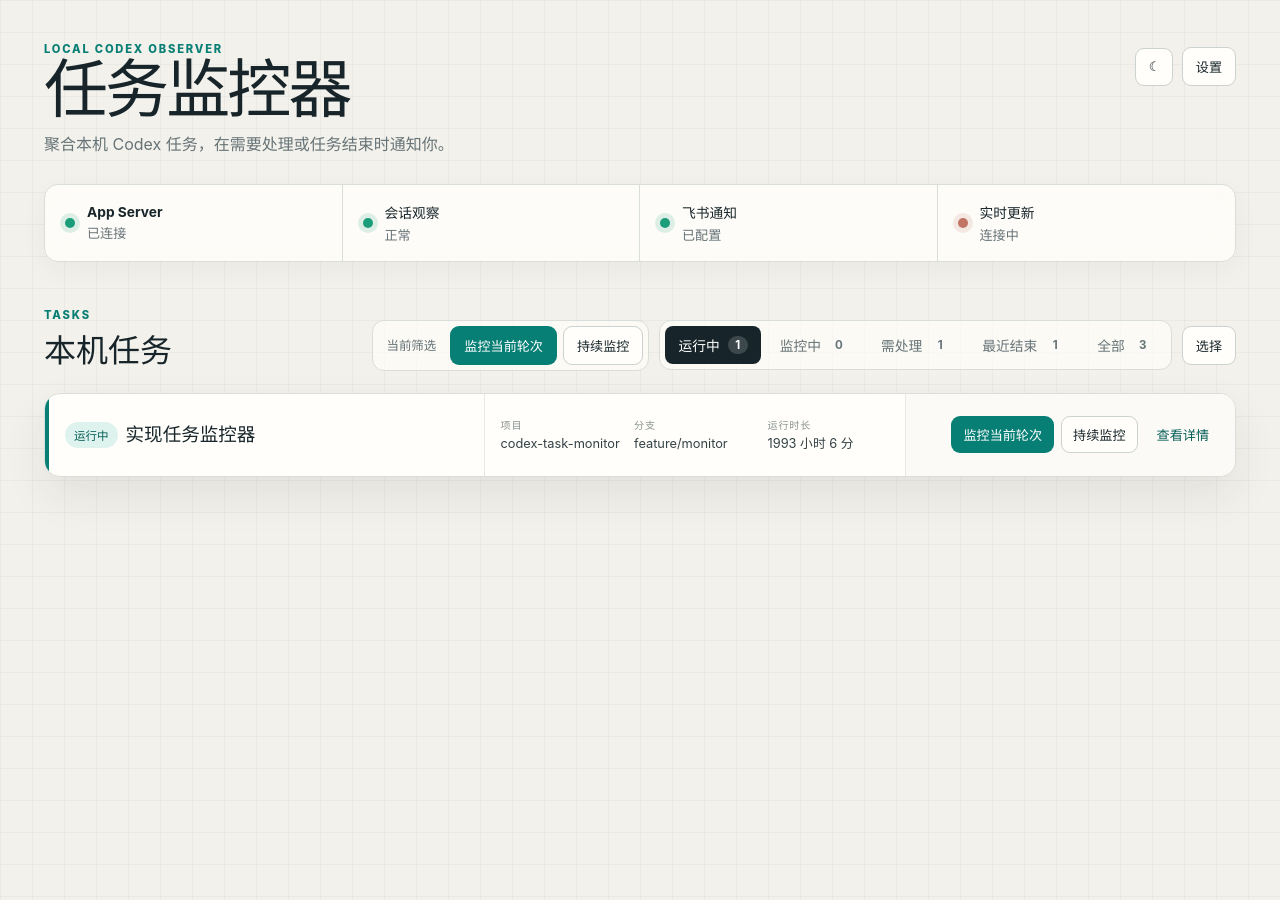
Test: 任务监控主页面 › SSE 终态更新会关闭任务右键菜单
The width and height of the screenshot is (1280, 900).
Right-click the element with class "task-card" at (640, 435), box left=44, top=393, right=1236, bottom=477
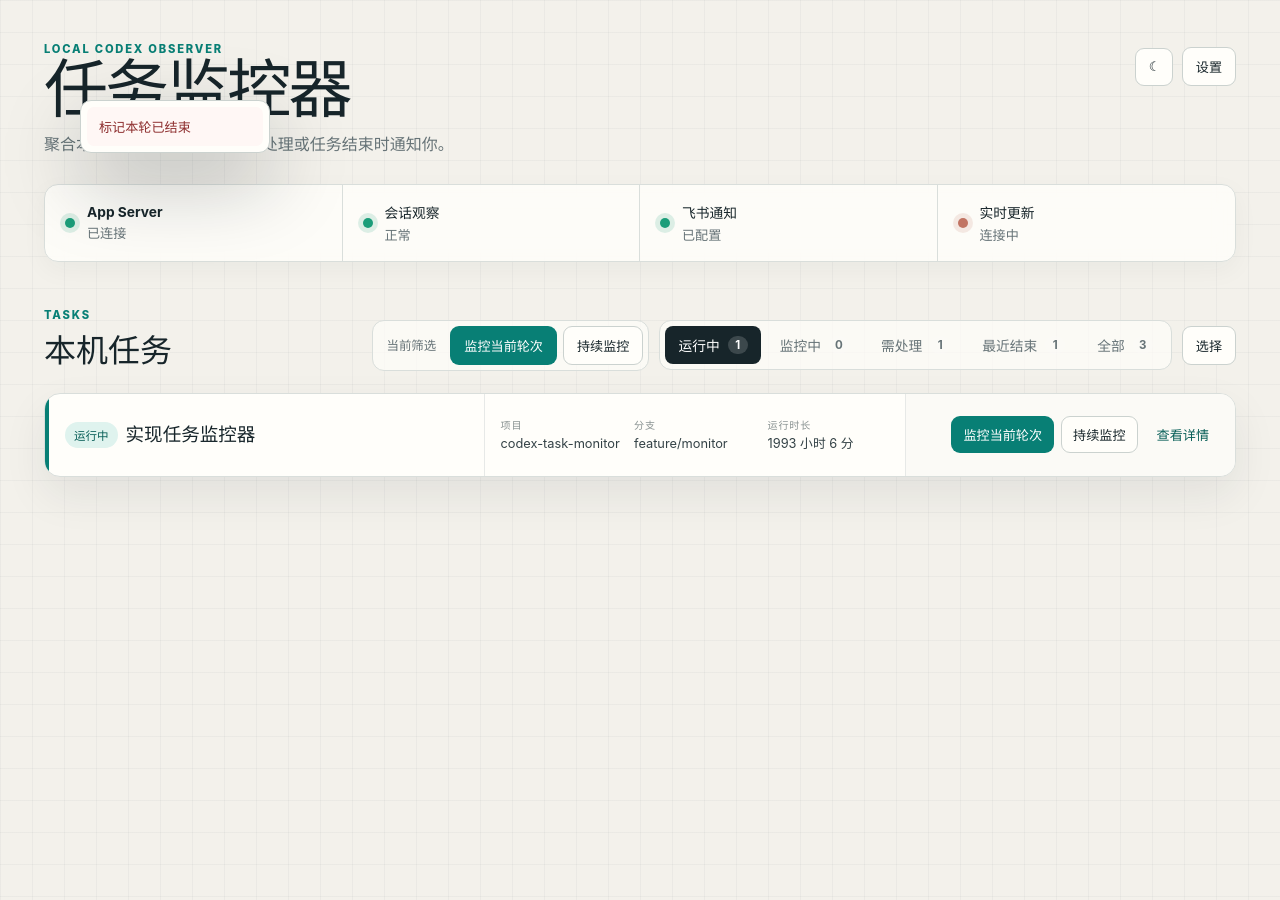
expect the menu is shown: met, box left=80, top=100, right=270, bottom=153
